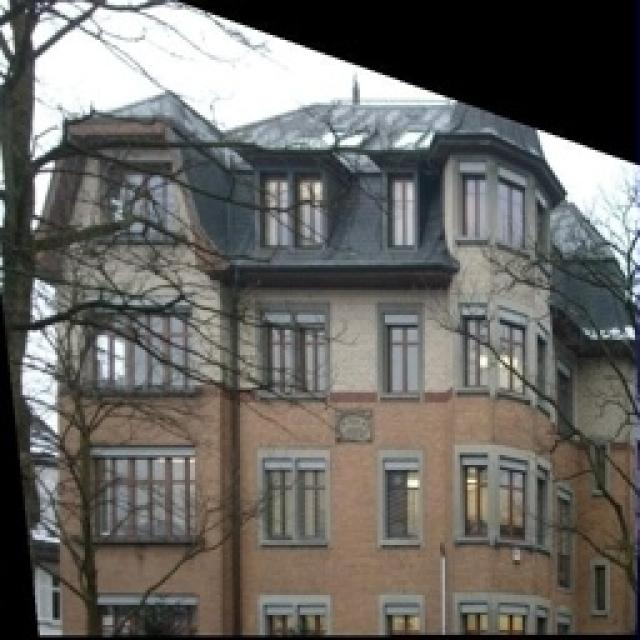building: (45, 85, 640, 640)
